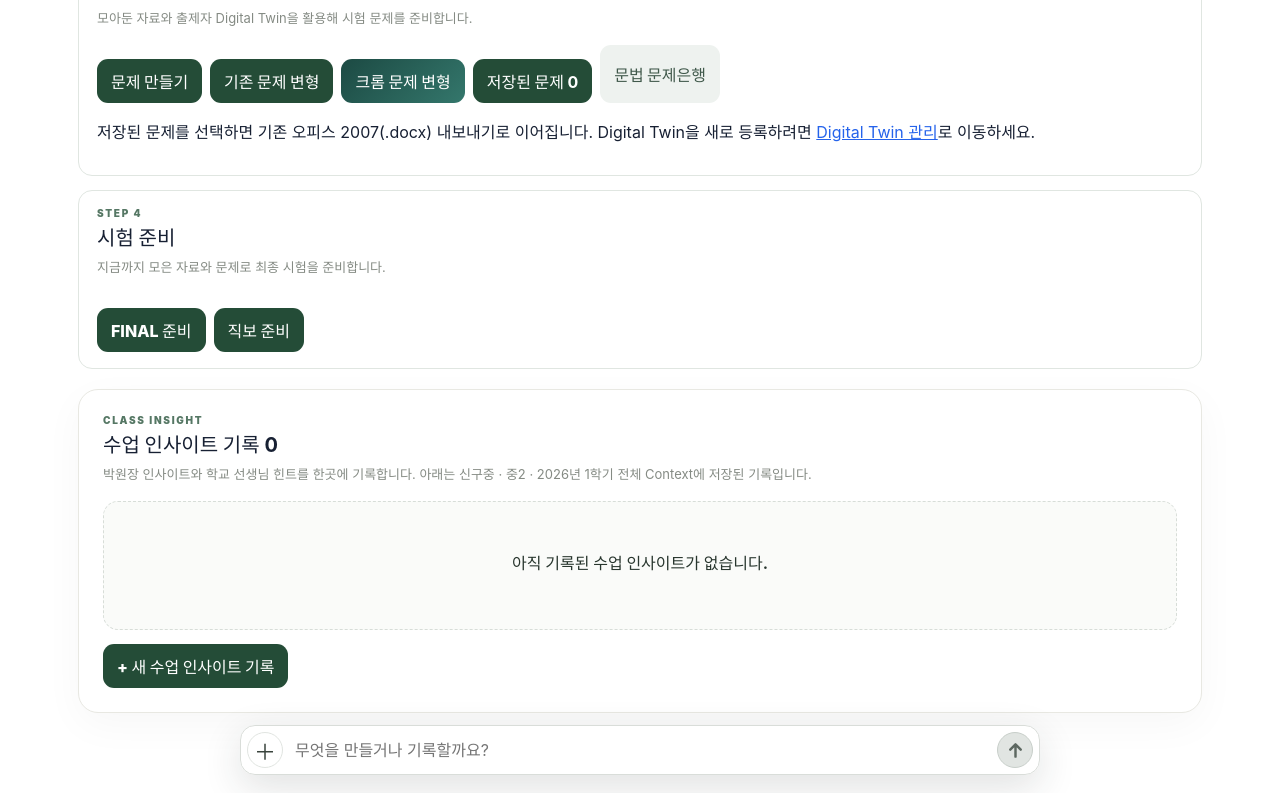
Test: 내신 Wiki V1.1 시나리오 홈 › 기록 0건이면 빈 상태 문구를 보이고 새 기록 입력은 그대로 가능하다
The width and height of the screenshot is (1280, 793).
(page scrolled)
Expected: the text "아직 기록된 수업 인사이트가 없습니다." is shown, [512,553,768,573]
Click the button "+ 새 수업 인사이트 기록" at [196, 666], box [103,644,288,688]
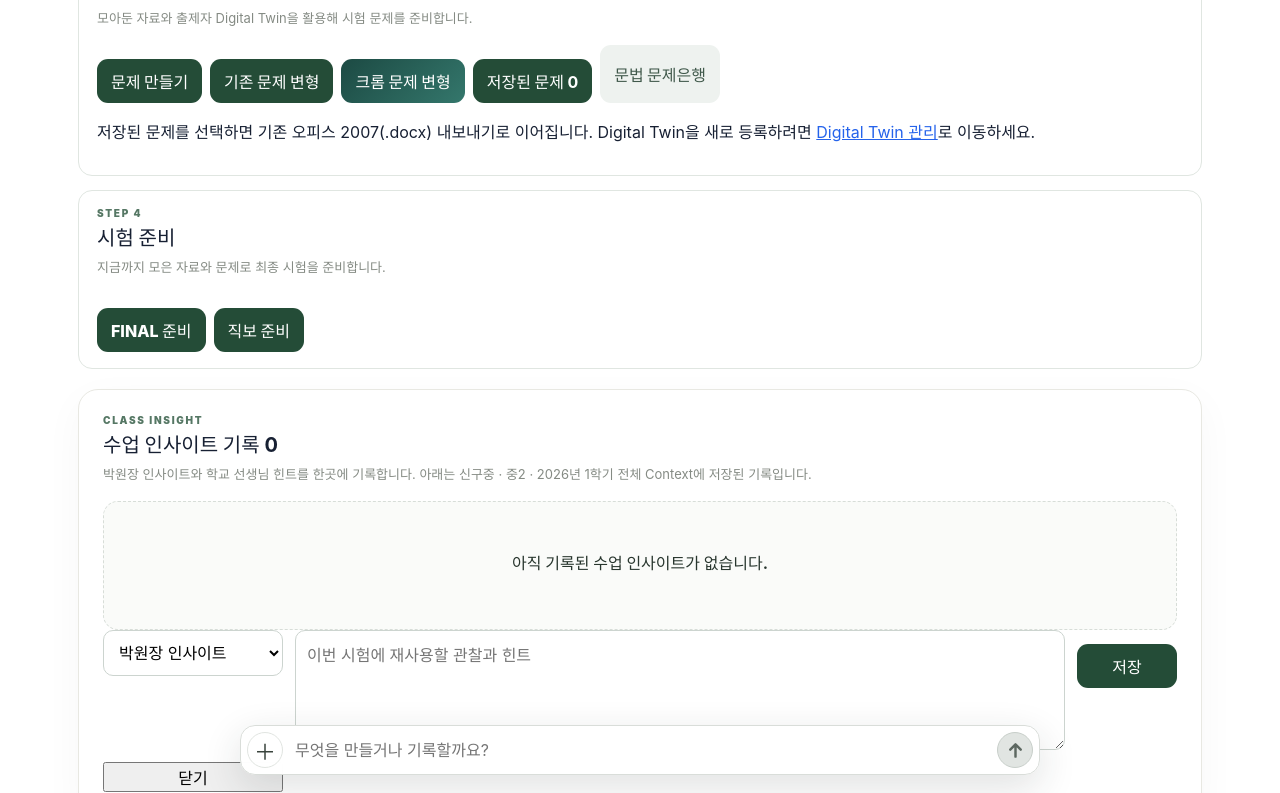
Result: the text box with placeholder "이번 시험에 재사용할 관찰과 힌트" is shown at [295,630,1065,750]
